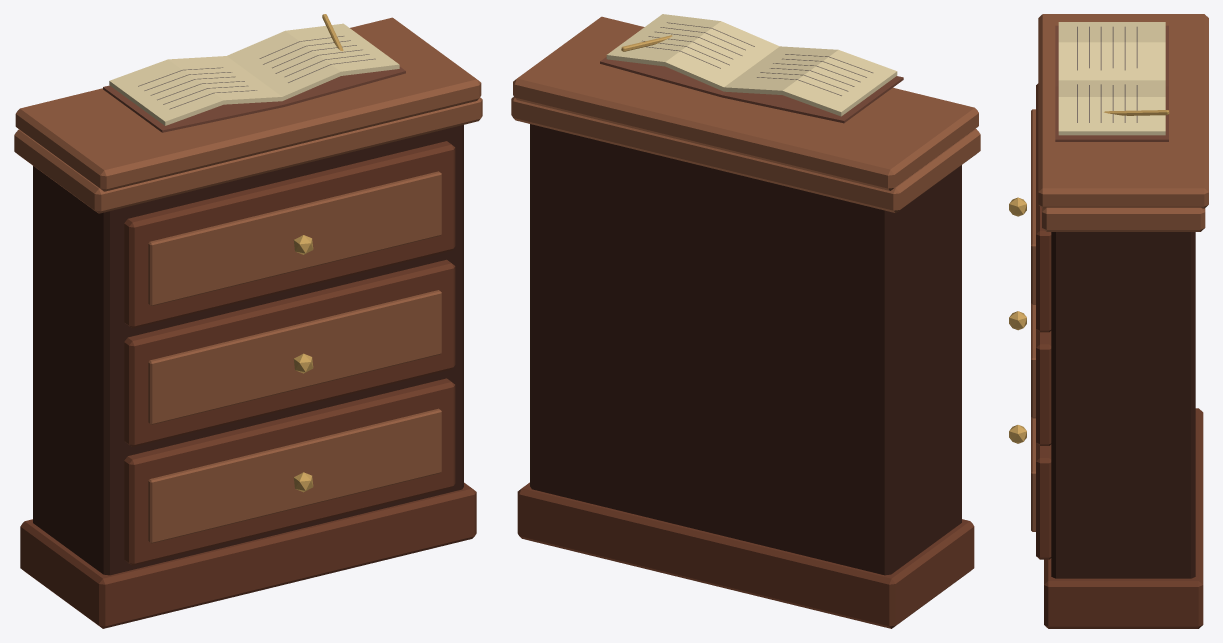
File: record_station_01.glb
The picture shows the model from 3 angles, left to right: view 1: azimuth 30°, elevation 25°; view 2: azimuth 150°, elevation 25°; view 3: azimuth 270°, elevation 25°; orthographic projection. The views are drawn at different scales.
Parts seen in each view (by area): view 1: Case, Case_Body, Top, Case_Plinth, Ledger, Case_Top; view 2: Case_Body, Top, Case_Plinth, Ledger, Case_Top; view 3: Case_Body, Top, Ledger, Case_Plinth, Case, Case_Top, Pen.
Boxes of the visible parts, x1,y1,x2,y2 form: Case: (124, 141, 455, 565); Case_Body: (33, 125, 463, 575); Top: (15, 17, 481, 191); Case_Plinth: (20, 482, 476, 628); Ledger: (103, 23, 405, 132); Case_Top: (14, 97, 482, 213); Case_Body: (530, 124, 961, 575); Top: (513, 16, 978, 190); Case_Plinth: (517, 482, 974, 628); Ledger: (600, 14, 903, 123); Case_Top: (511, 97, 980, 212); Case_Body: (1051, 232, 1195, 578); Top: (1038, 14, 1208, 208); Ledger: (1055, 22, 1168, 141); Case_Plinth: (1044, 408, 1203, 628); Case: (1009, 83, 1051, 559); Case_Top: (1042, 207, 1205, 231); Pen: (1104, 110, 1169, 115).
Bounding box in the file's own units: 1.13 × 1.39 × 0.5268.
